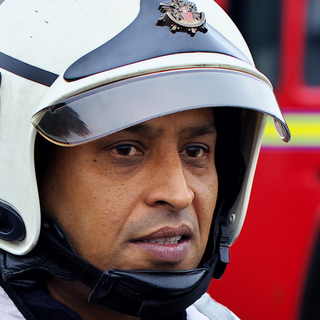eye: (99, 135, 147, 163), (176, 140, 210, 163)
